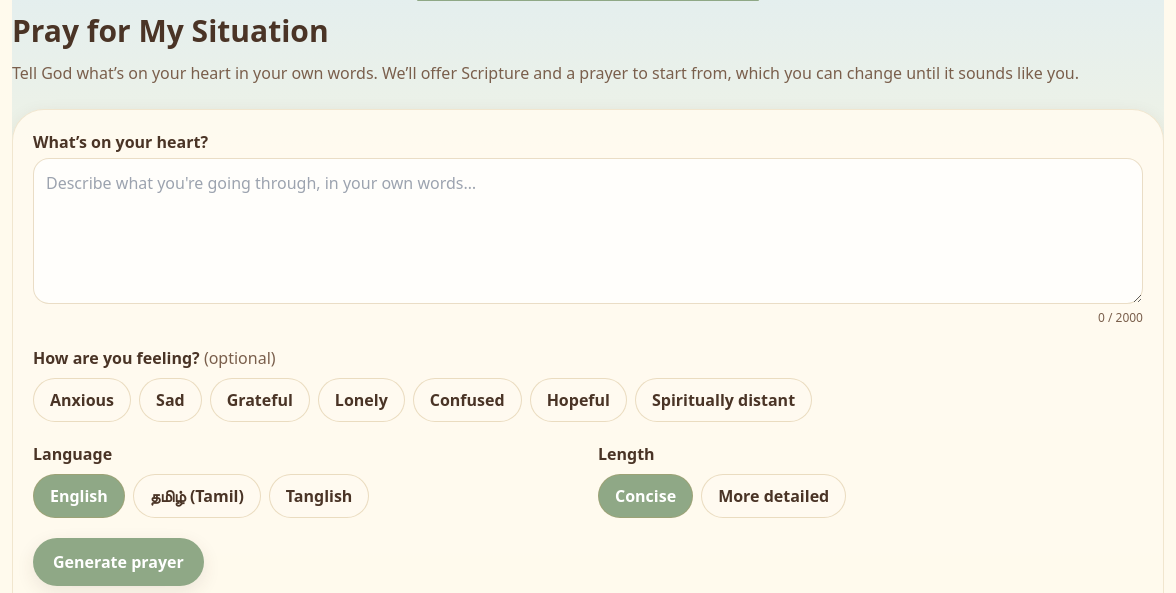
Test: submitting a prayer request › sends the situation, chosen emotion, language and length to the API route and shows the result
Step 1. Type "I am anxious about my exams." into the text box labelled "What’s on your heart? 0 / 2000" → [588, 231], box [33, 158, 1143, 304]
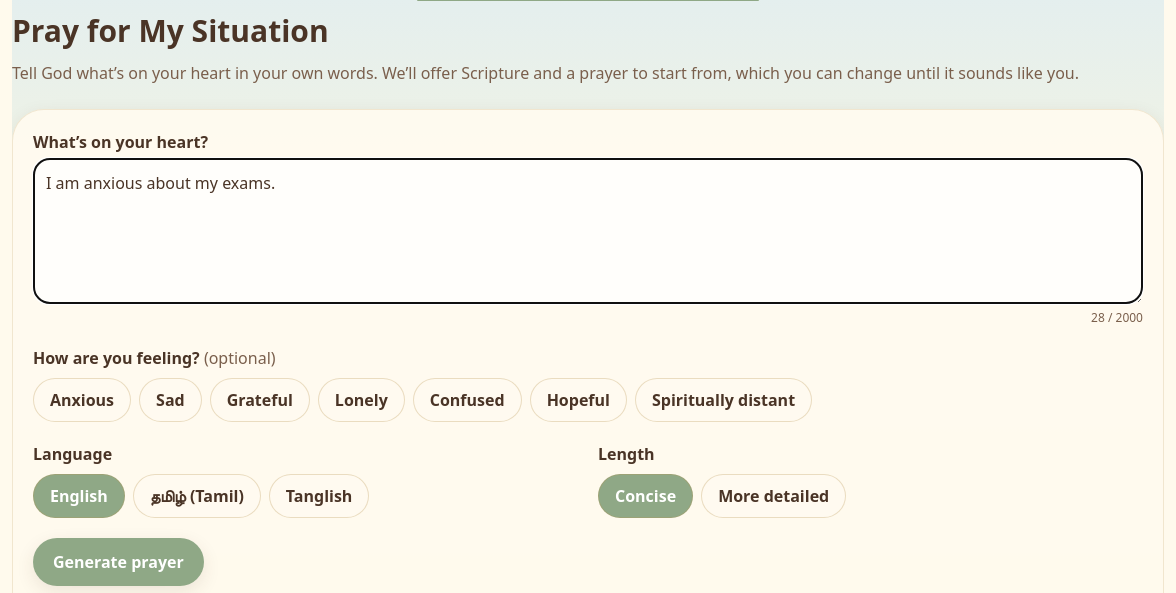
Step 2. Click the button "Anxious" → [82, 400], box [33, 378, 131, 422]
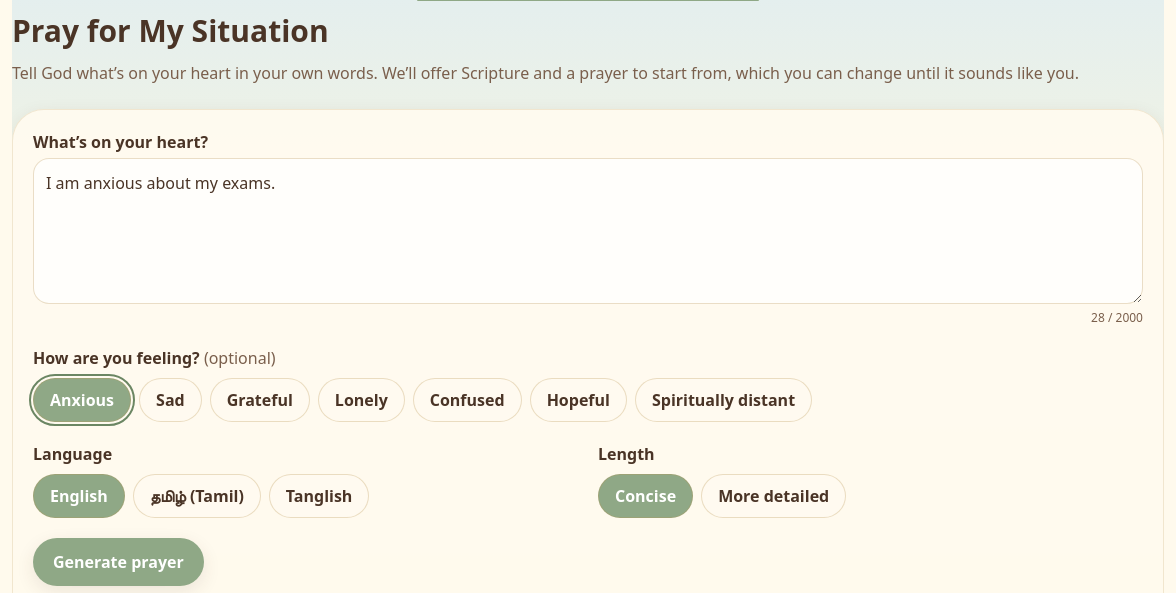
Step 3. Click the radio button labelled "Tanglish" → [319, 496], box [269, 474, 369, 518]
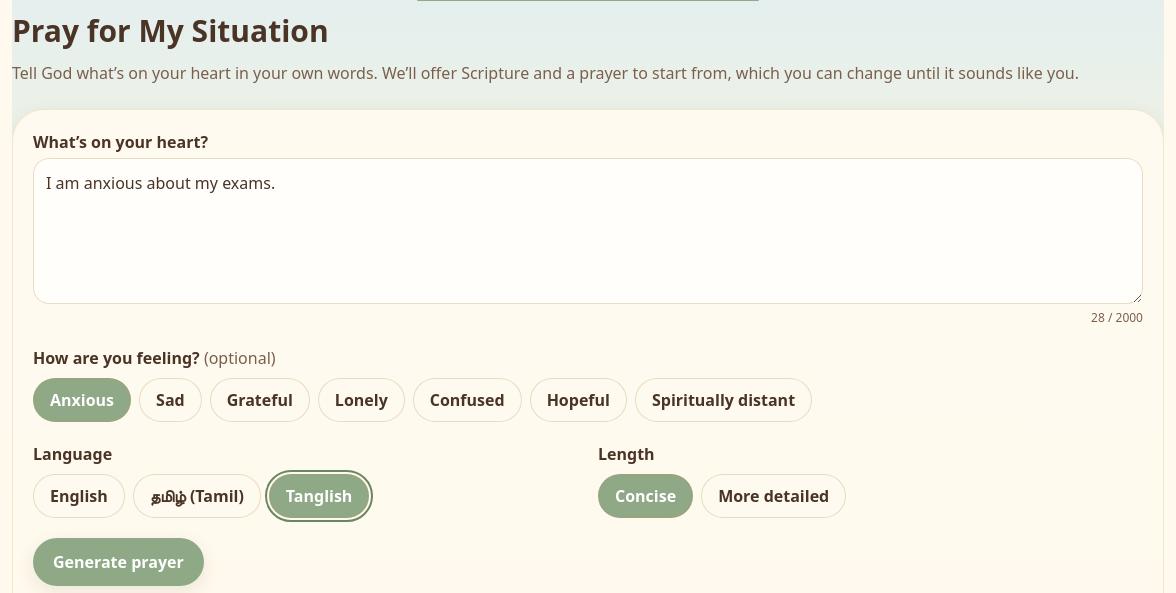
Step 4. Click the radio button labelled "More detailed" → [774, 496], box [701, 474, 846, 518]
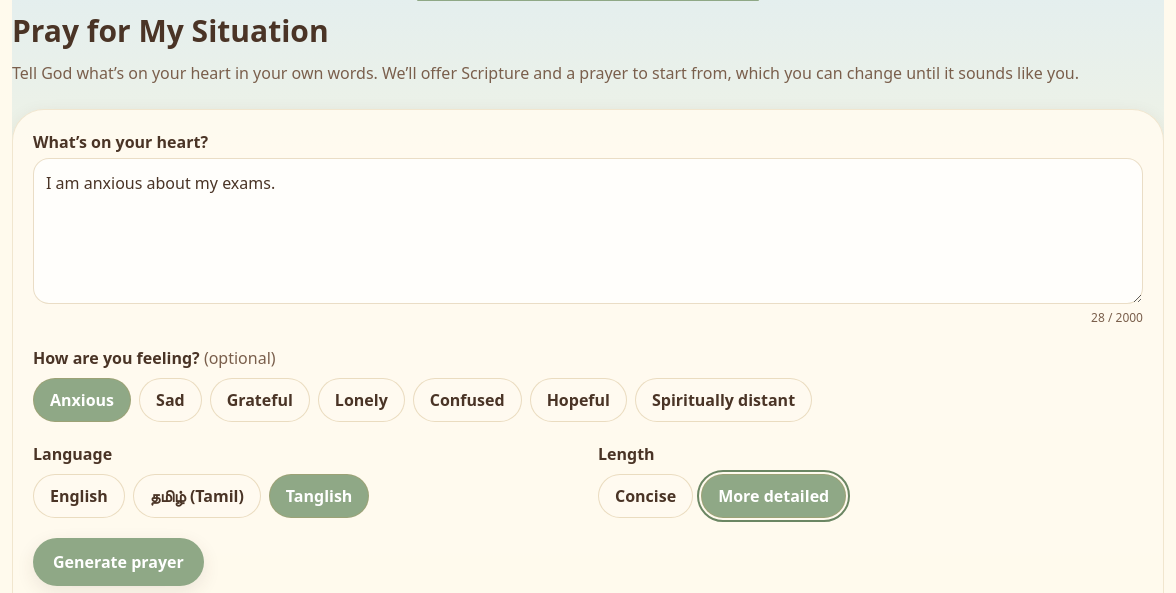
Step 5. Click the button "Generate prayer" → [118, 562], box [33, 538, 204, 586]
(page scrolled)
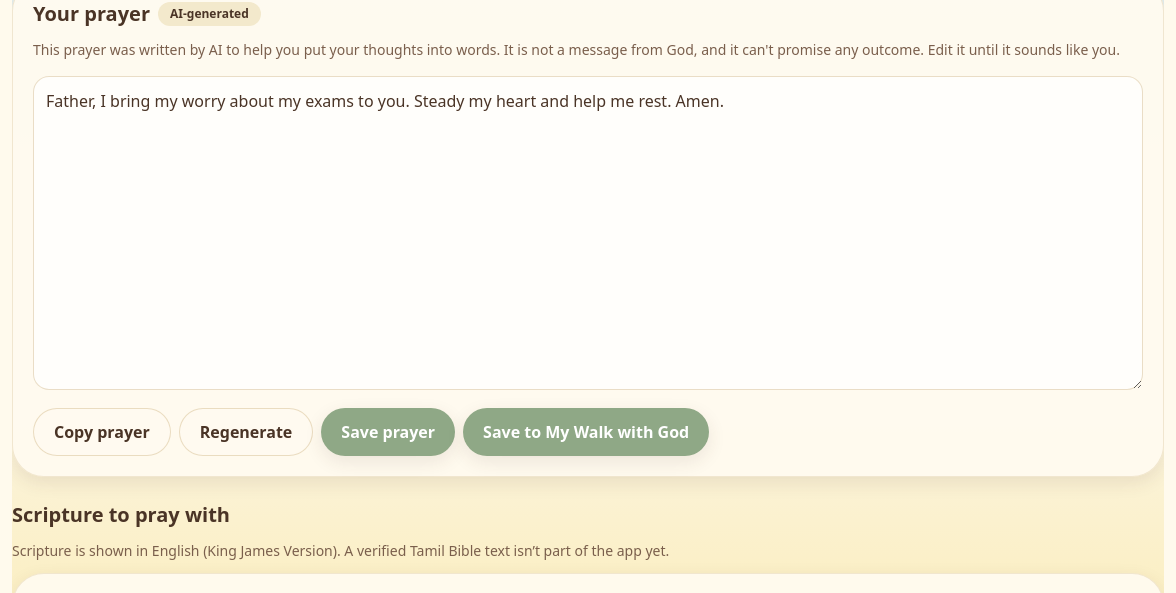
Result: the text box showing "Father, I bring my worry about my exams to you. Steady my heart and help me rest. Amen." is shown at [33, 76, 1143, 390]
